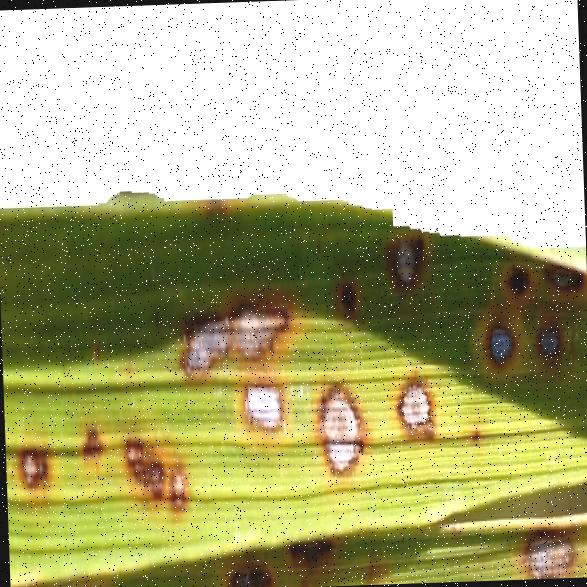Brown_Spot: (173, 292, 294, 432), (118, 406, 196, 525), (317, 366, 376, 497), (517, 488, 575, 578), (390, 348, 442, 448), (470, 275, 520, 369), (14, 425, 54, 508), (76, 410, 105, 479)
